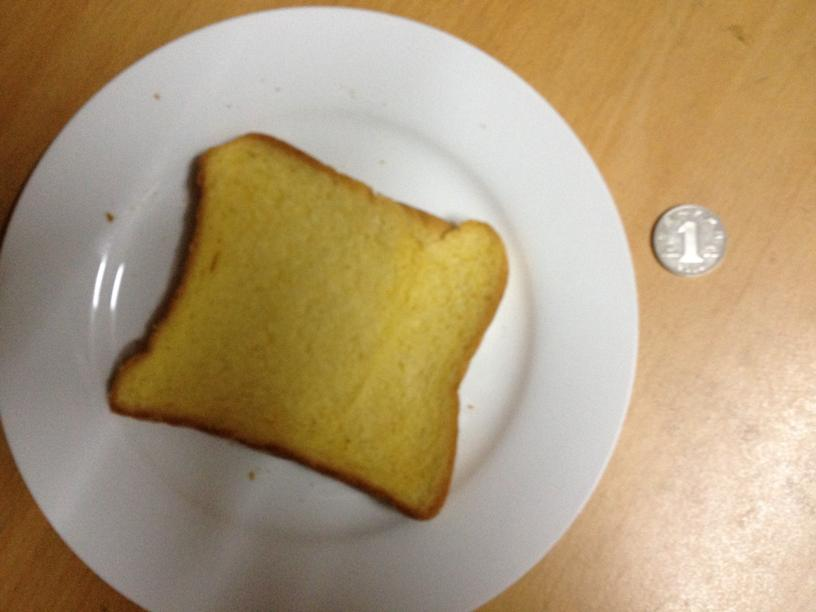bread: (111, 132, 509, 521)
coin: (651, 204, 727, 275)
